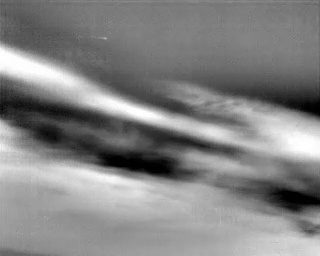BIRD: (100, 34, 109, 43)
